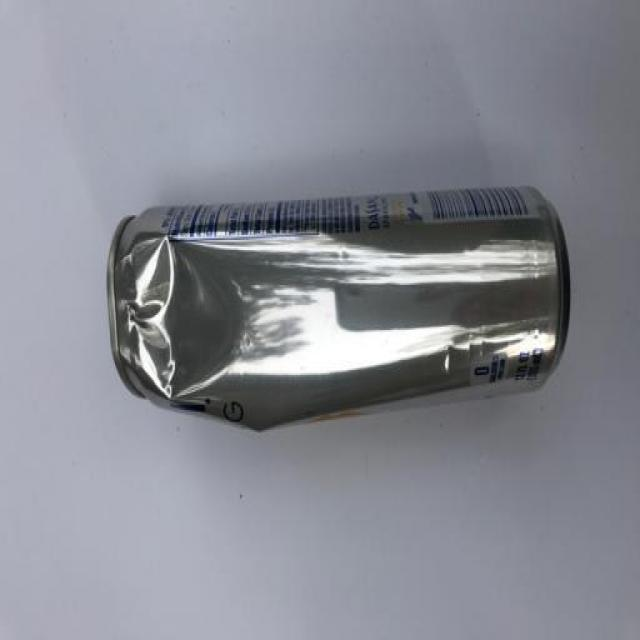metel: (102, 159, 640, 465)
